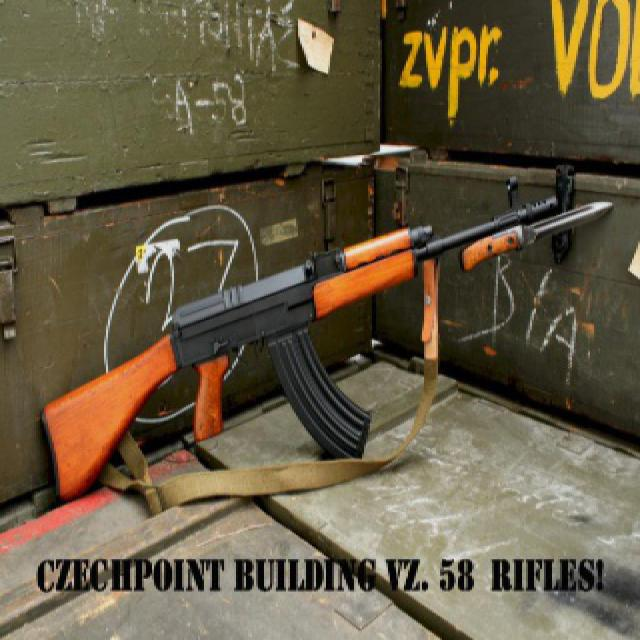long weapon: (42, 165, 614, 495)
